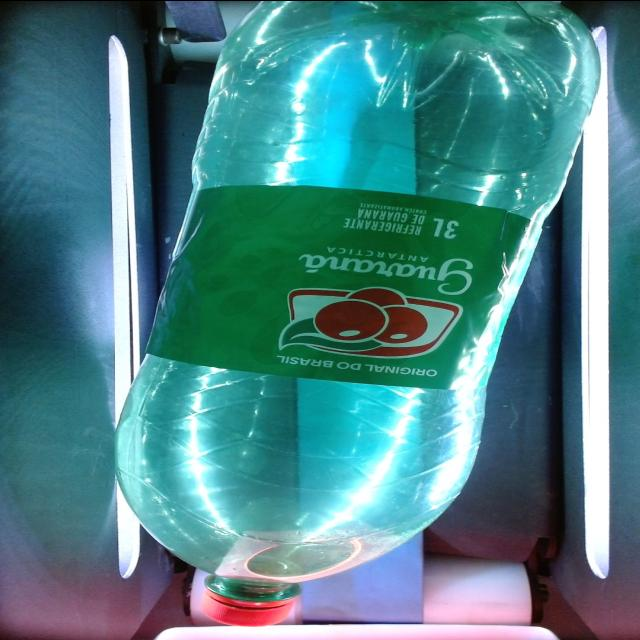bottle: (115, 0, 597, 625)
